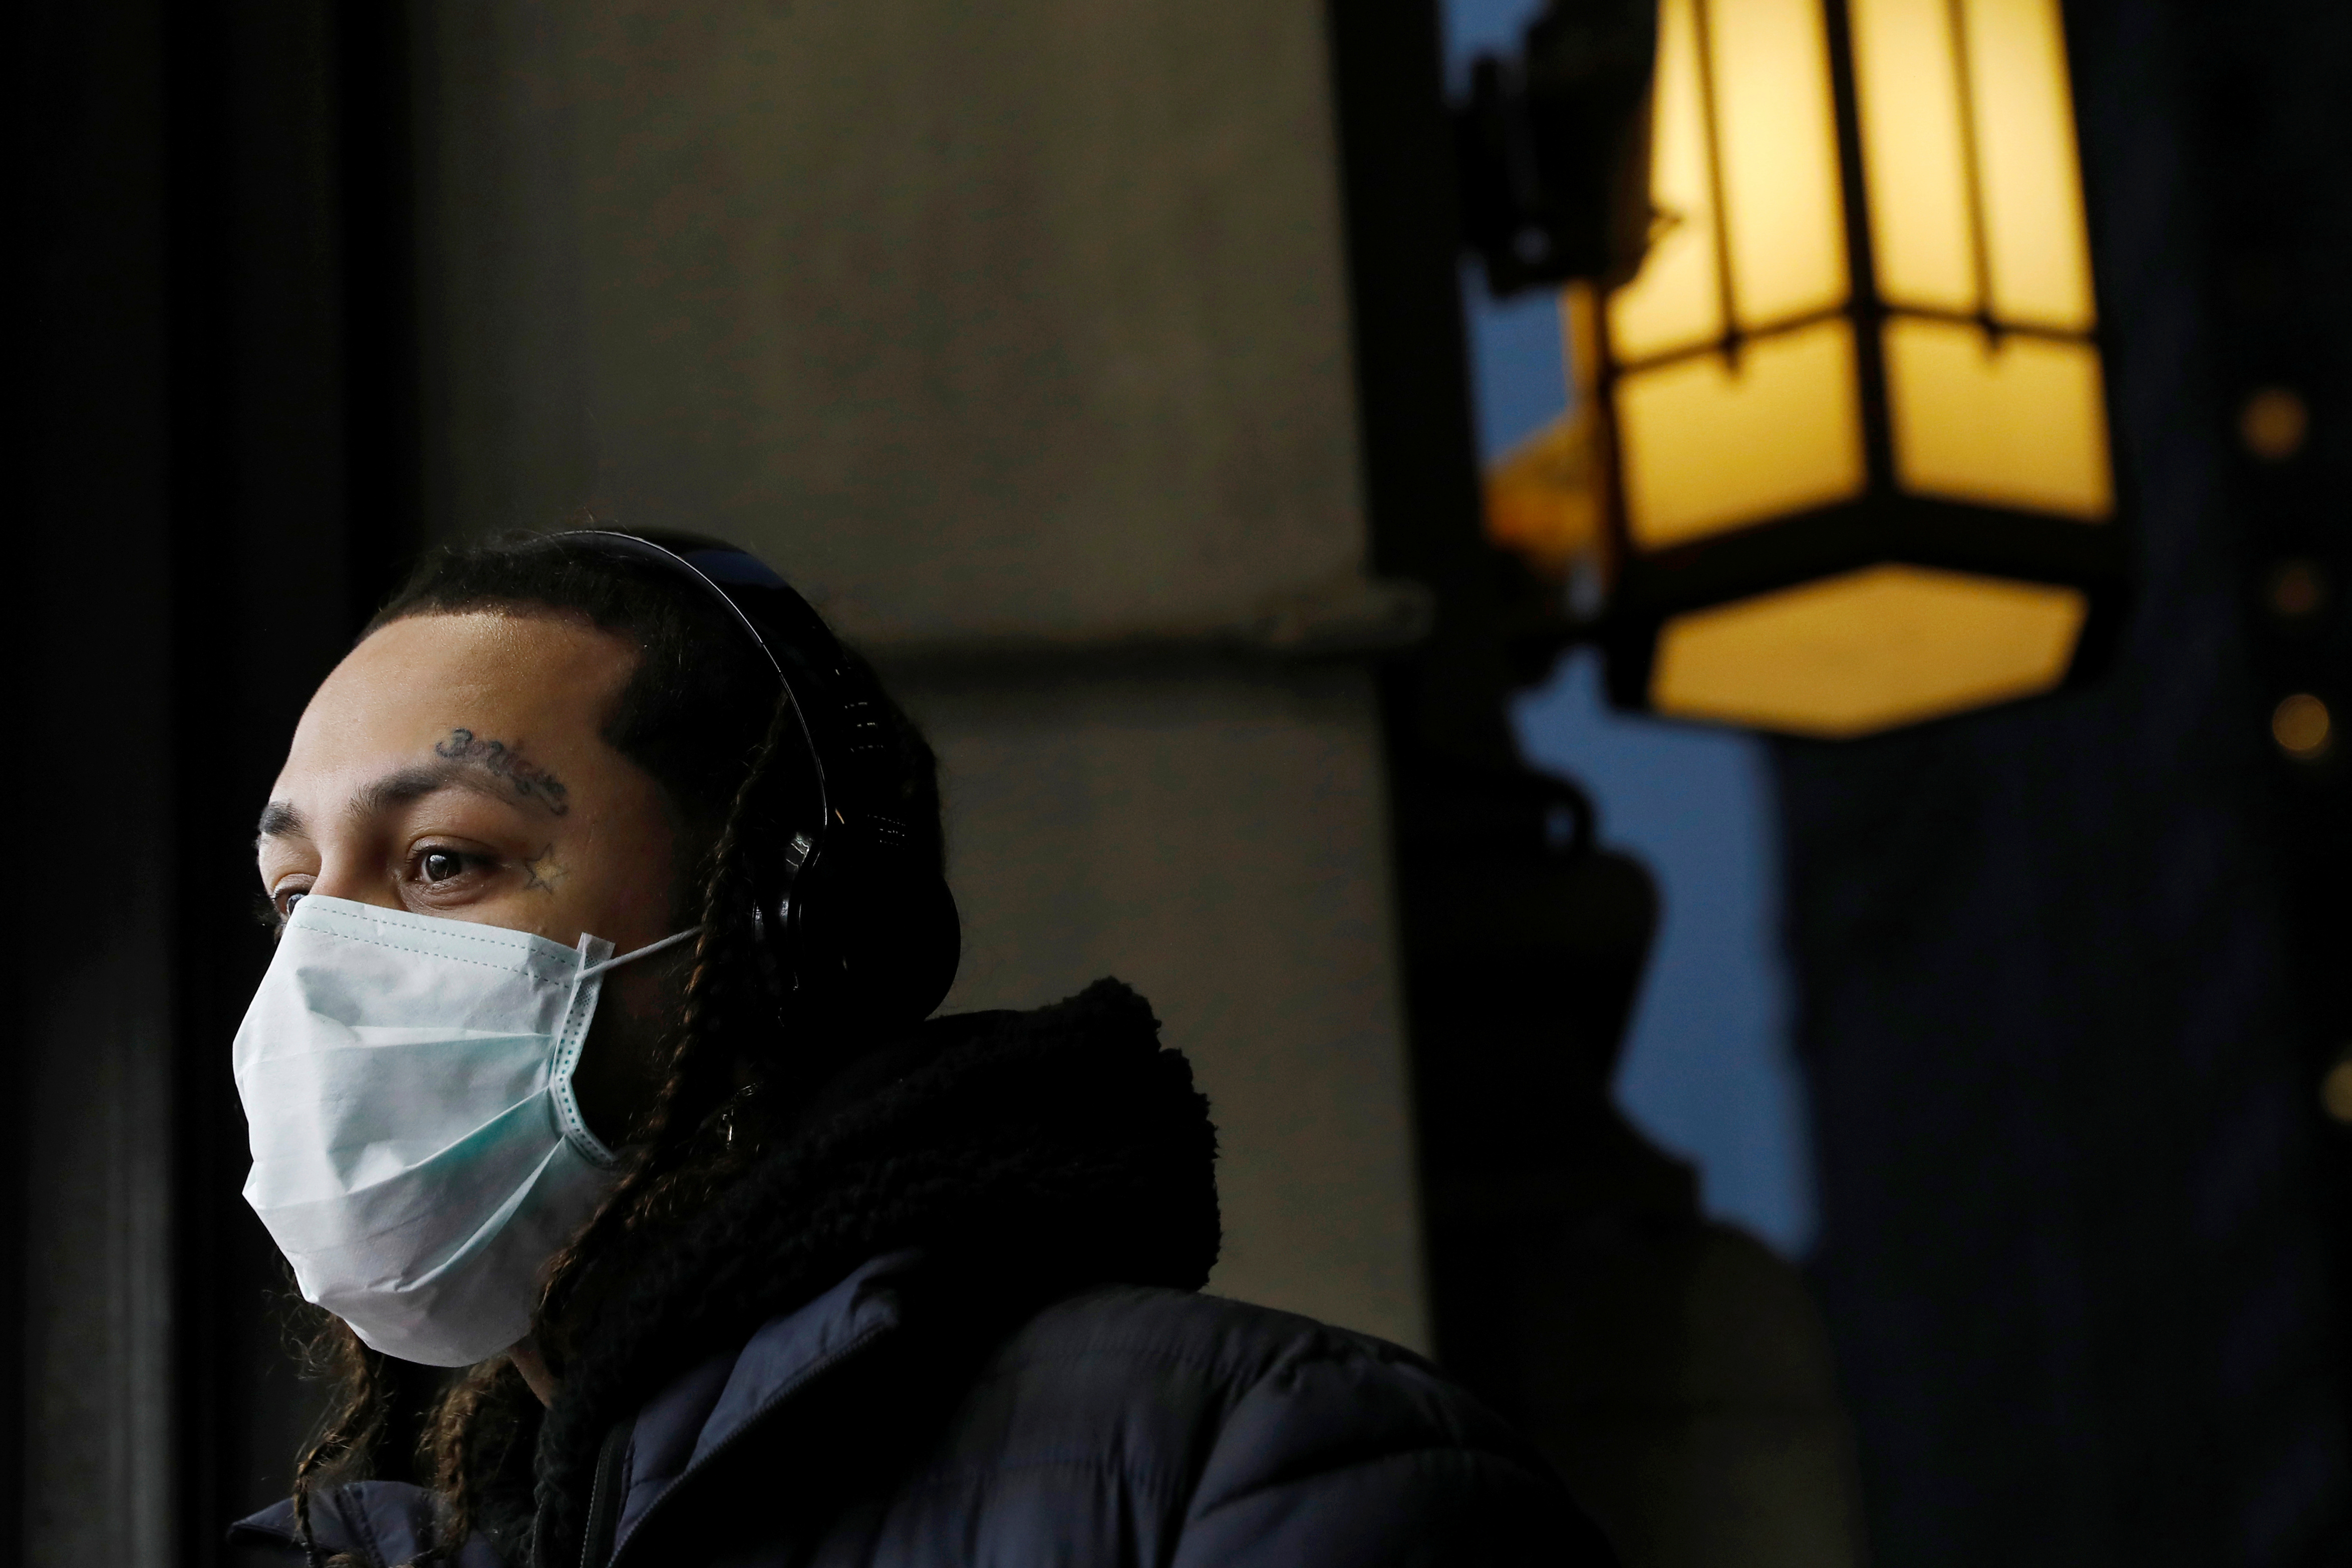with_mask: (204, 608, 864, 1323)
